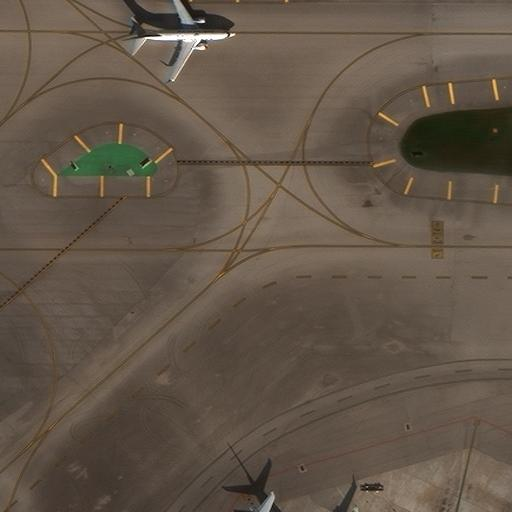Large Civil Transport: (129, 0, 237, 85)
